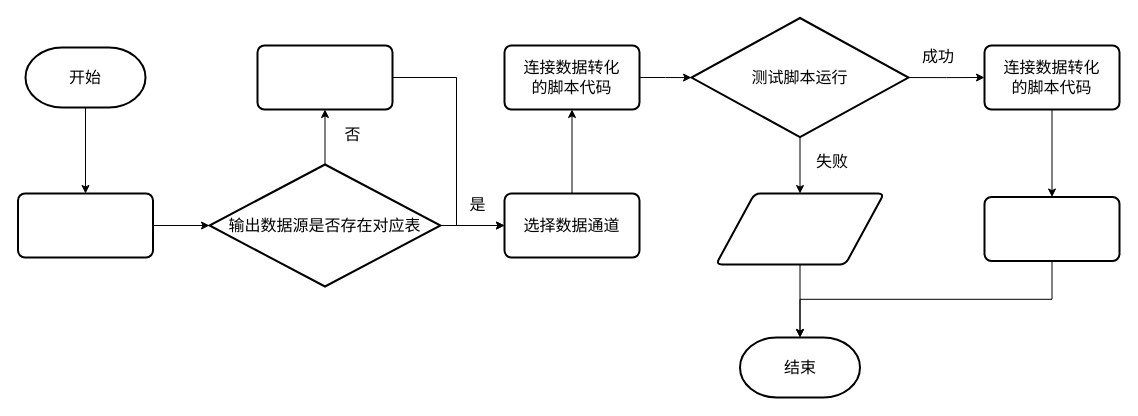
Image size: 1138x416. Some labels were removed from this diagram. Here are the shapes that lost their labels. From the top down, the centre of each, then its label:
the point at 324,77: 创建相同模式的表
the point at 85,225: 选择输入、 输出数据源
the point at 799,228: 输出运行日志
the point at 1051,229: 保存任务
